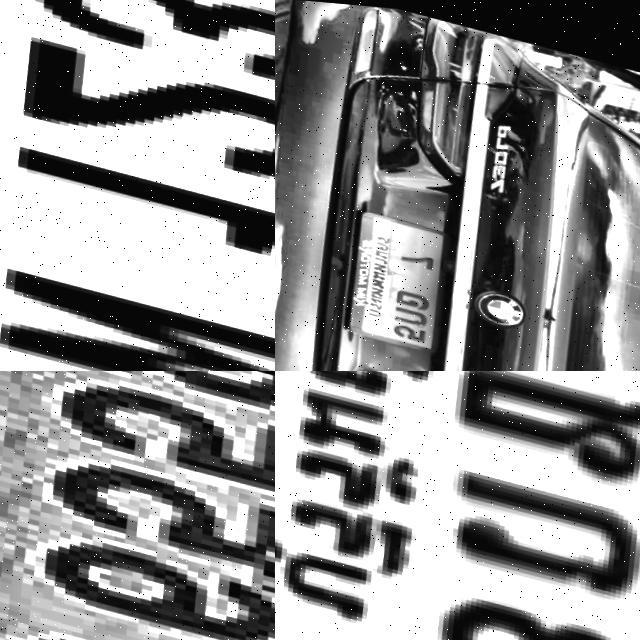license-plate: (0, 0, 275, 371), (275, 371, 640, 640), (0, 371, 275, 640), (334, 201, 455, 349)
